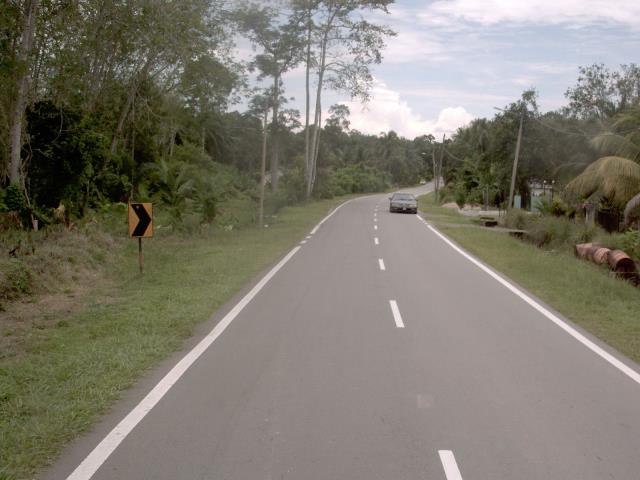traffic_sign: (121, 195, 160, 244)
